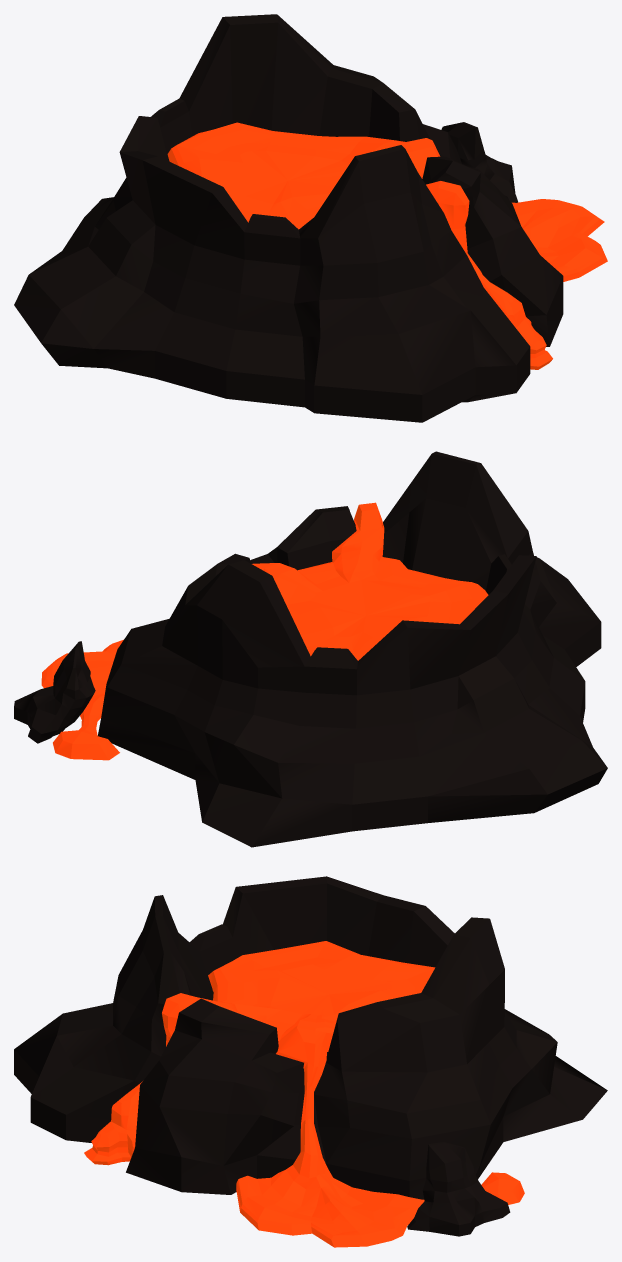
The model's file is magma stone-basic.FBX.
3 views of the same model, one above another, from view 1: azimuth 30°, elevation 25°; view 2: azimuth 150°, elevation 25°; view 3: azimuth 270°, elevation 25° (orthographic). The views are drawn at different scales.
Parts seen in each view (by area): view 1: Cylinder001; view 2: Cylinder001; view 3: Cylinder001.
Part boxes in pixels (<box>): Cylinder001: <box>14,14,607,422</box>; Cylinder001: <box>14,451,607,847</box>; Cylinder001: <box>14,876,607,1247</box>.
Bounding box in the file's own units: 91.68 × 34.06 × 90.69.
